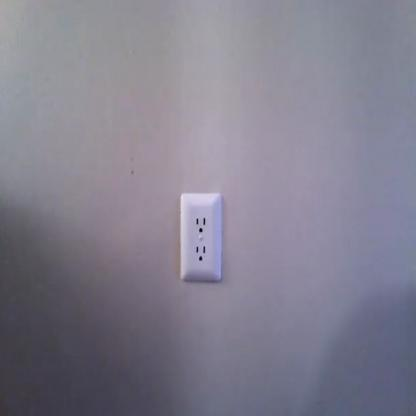OUTLET: (180, 194, 222, 282)
